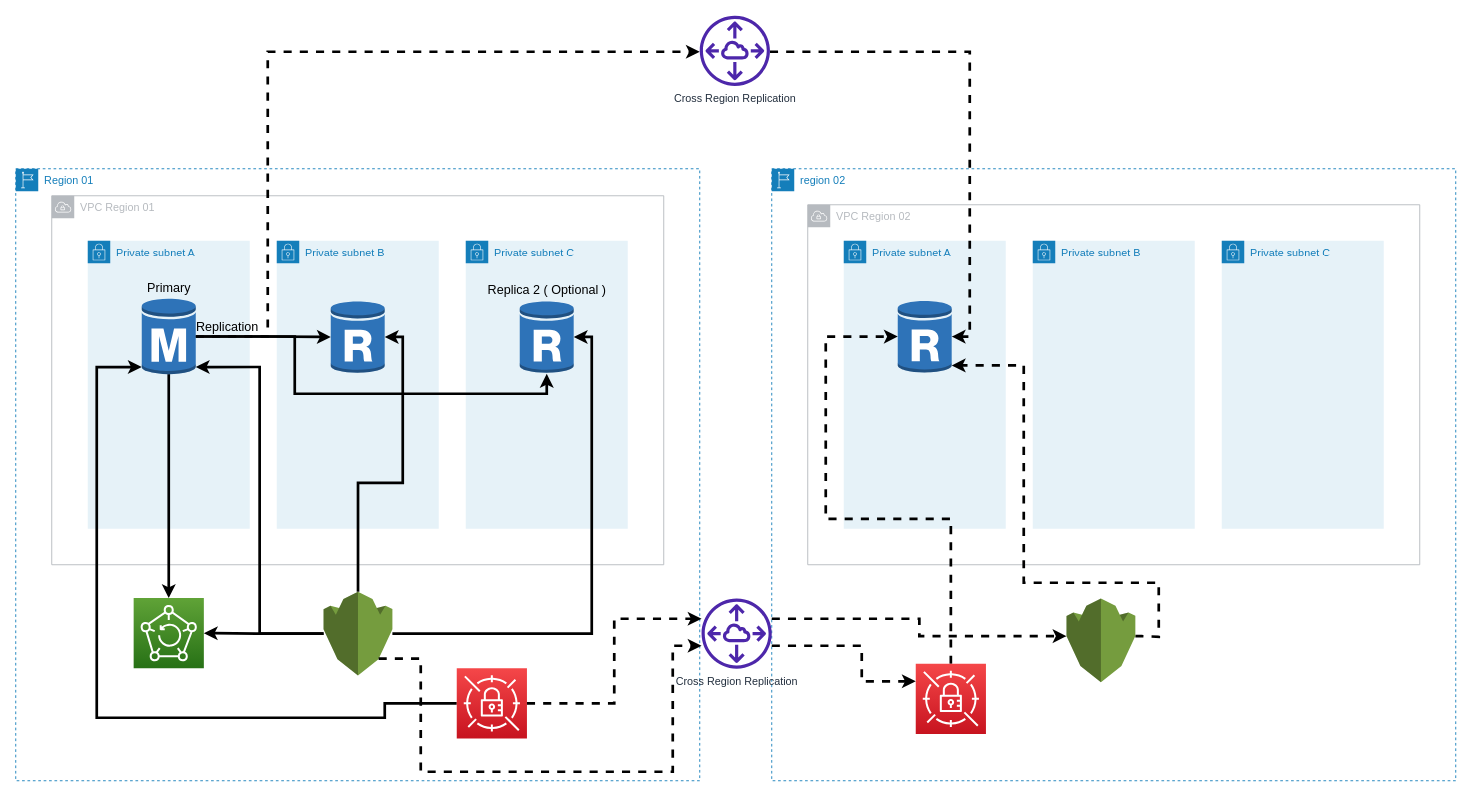
Image size: 1472x804. Some labels were removed from this diagram. Each missing label, with the centre of its shape:
Backup: pixel 168 632
Cross Region Replica 1 ( Optional ): pixel 924 336
KMS Key: pixel 357 633
KMS Key Replica ( Optional ): pixel 1100 640
Replica 1 ( Optional ): pixel 357 336
Secrets Manager: pixel 491 702
Secrets Manager Secret Replica ( Optional ): pixel 950 698
